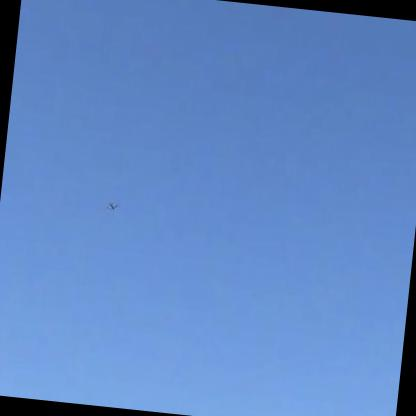plane: (104, 201, 119, 212)
